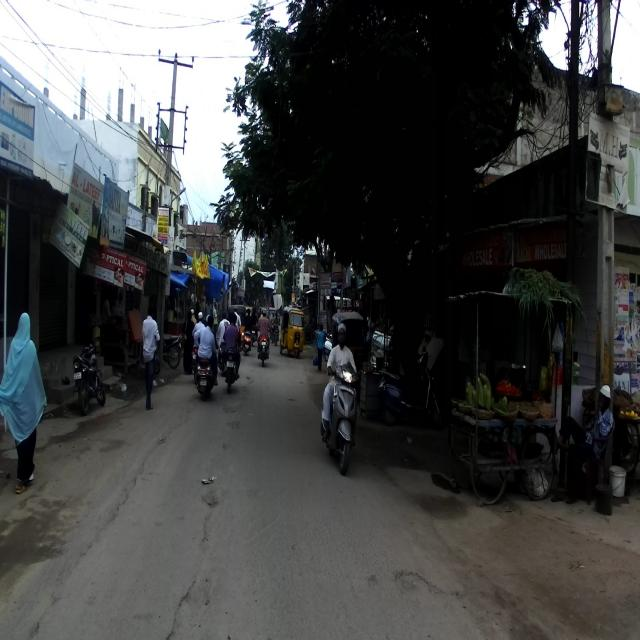motorcycle_bajaj: (73, 336, 106, 415)
scooter: (376, 349, 444, 428), (319, 362, 361, 475)
